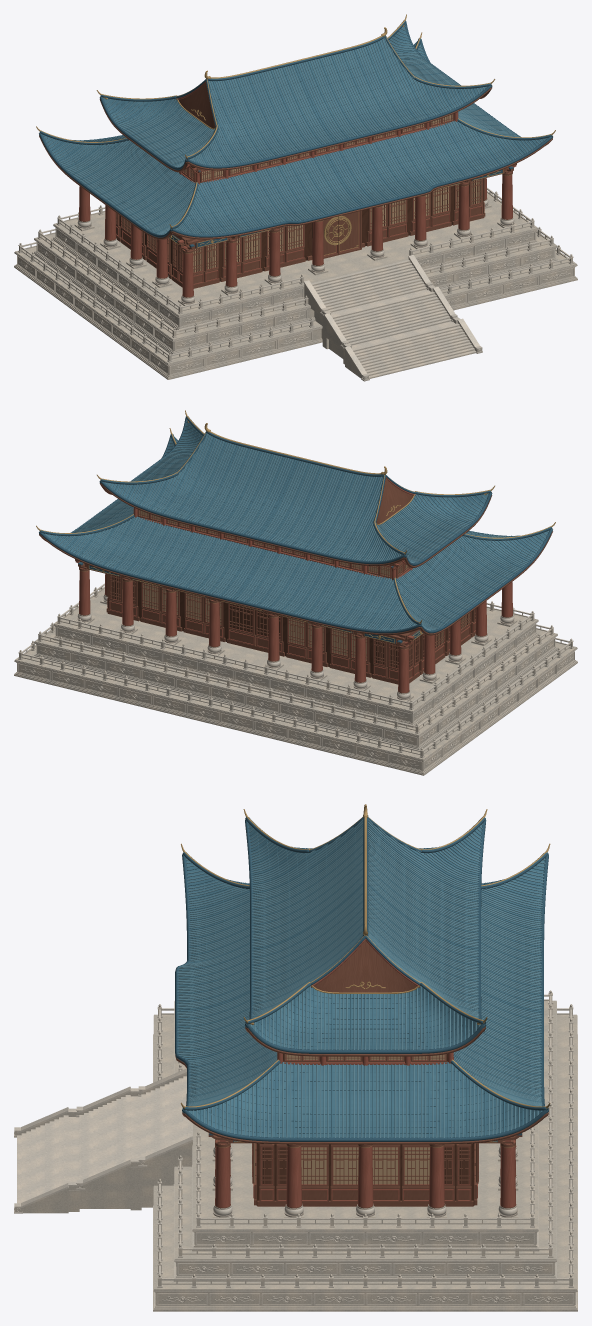
The model's file is A01_MainHall.glb.
3 views of the same model, one above another, from view 1: azimuth 30°, elevation 25°; view 2: azimuth 150°, elevation 25°; view 3: azimuth 270°, elevation 25° (orthographic). The views are drawn at different scales.
Parts seen in each view (by area): view 1: Terraces_stone, Lower_Tile_Field, Lower_Rolled_Tiles, Upper_Tile_Field, Upper_Rolled_Tiles, Processional_stair_stoneLight, FrontPortico_wood, Reliefs_stoneLight, Processional_stair_stone, FrontPortico_red, Terraces_stoneLight, Lower_Rolled_Tiles_Shadow (+19 smaller); view 2: Terraces_stone, Lower_Tile_Field, Lower_Rolled_Tiles, Upper_Tile_Field, Upper_Rolled_Tiles, Reliefs_stoneLight, NorthPortico_wood, Terraces_stoneLight, NorthPortico_red, Balustrades_stone, Balustrades_stoneLight, Lower_Rolled_Tiles_Shadow (+17 smaller); view 3: Terraces_stone, Lower_Rolled_Tiles, Upper_Rolled_Tiles, Lower_Tile_Field, Upper_Tile_Field, Processional_stair_stoneLight, Lower_Rolled_Tiles_Shadow, Upper_Rolled_Tiles_Shadow, EastPortico_wood, Reliefs_stoneLight, Balustrades_stoneLight, Balustrades_stone (+17 smaller).
Boxes of the visible parts, <box> form: Terraces_stone: <box>14,190,577,379</box>; Lower_Tile_Field: <box>43,44,545,234</box>; Lower_Rolled_Tiles: <box>44,45,547,234</box>; Upper_Tile_Field: <box>103,25,487,165</box>; Upper_Rolled_Tiles: <box>103,26,486,167</box>; Processional_stair_stoneLight: <box>303,255,482,381</box>; FrontPortico_wood: <box>177,165,516,297</box>; Reliefs_stoneLight: <box>17,228,574,375</box>; Processional_stair_stone: <box>304,258,482,379</box>; FrontPortico_red: <box>177,165,516,296</box>; Terraces_stoneLight: <box>14,224,577,378</box>; Lower_Rolled_Tiles_Shadow: <box>43,43,537,234</box>; Terraces_stone: <box>14,586,577,775</box>; Lower_Tile_Field: <box>45,440,549,630</box>; Lower_Rolled_Tiles: <box>45,439,548,630</box>; Upper_Tile_Field: <box>106,421,488,561</box>; Upper_Rolled_Tiles: <box>105,421,488,563</box>; Reliefs_stoneLight: <box>17,624,574,770</box>; NorthPortico_wood: <box>75,560,414,693</box>; Terraces_stoneLight: <box>14,620,577,774</box>; NorthPortico_red: <box>75,561,414,692</box>; Balustrades_stone: <box>19,587,572,756</box>; Balustrades_stoneLight: <box>18,583,573,758</box>; Lower_Rolled_Tiles_Shadow: <box>54,448,544,630</box>; Terraces_stone: <box>153,1000,577,1311</box>; Lower_Rolled_Tiles: <box>177,859,545,1137</box>; Upper_Rolled_Tiles: <box>248,819,483,1049</box>; Lower_Tile_Field: <box>179,858,544,1137</box>; Upper_Tile_Field: <box>249,821,482,1049</box>; Processional_stair_stoneLight: <box>14,1068,193,1213</box>; Lower_Rolled_Tiles_Shadow: <box>177,867,544,1137</box>; Upper_Rolled_Tiles_Shadow: <box>249,824,481,1049</box>; EastPortico_wood: <box>225,1139,505,1208</box>; Reliefs_stoneLight: <box>155,1232,575,1305</box>; Balustrades_stoneLight: <box>157,992,573,1287</box>; Balustrades_stone: <box>158,990,572,1286</box>.
Size of the model in its own units: 53.94 by 28.24 by 46.65.
Materials: 11 (10 with a texture image).
